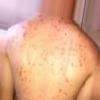Acne: (17, 20, 85, 97)
